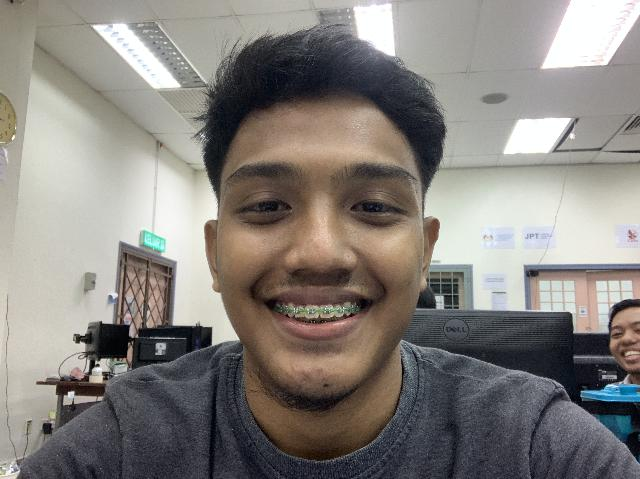senang: (211, 42, 435, 402)
